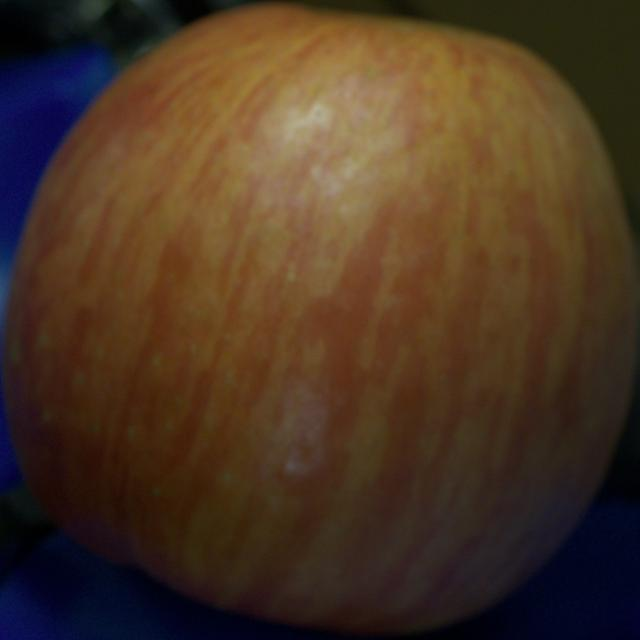apple: (2, 5, 639, 634)
